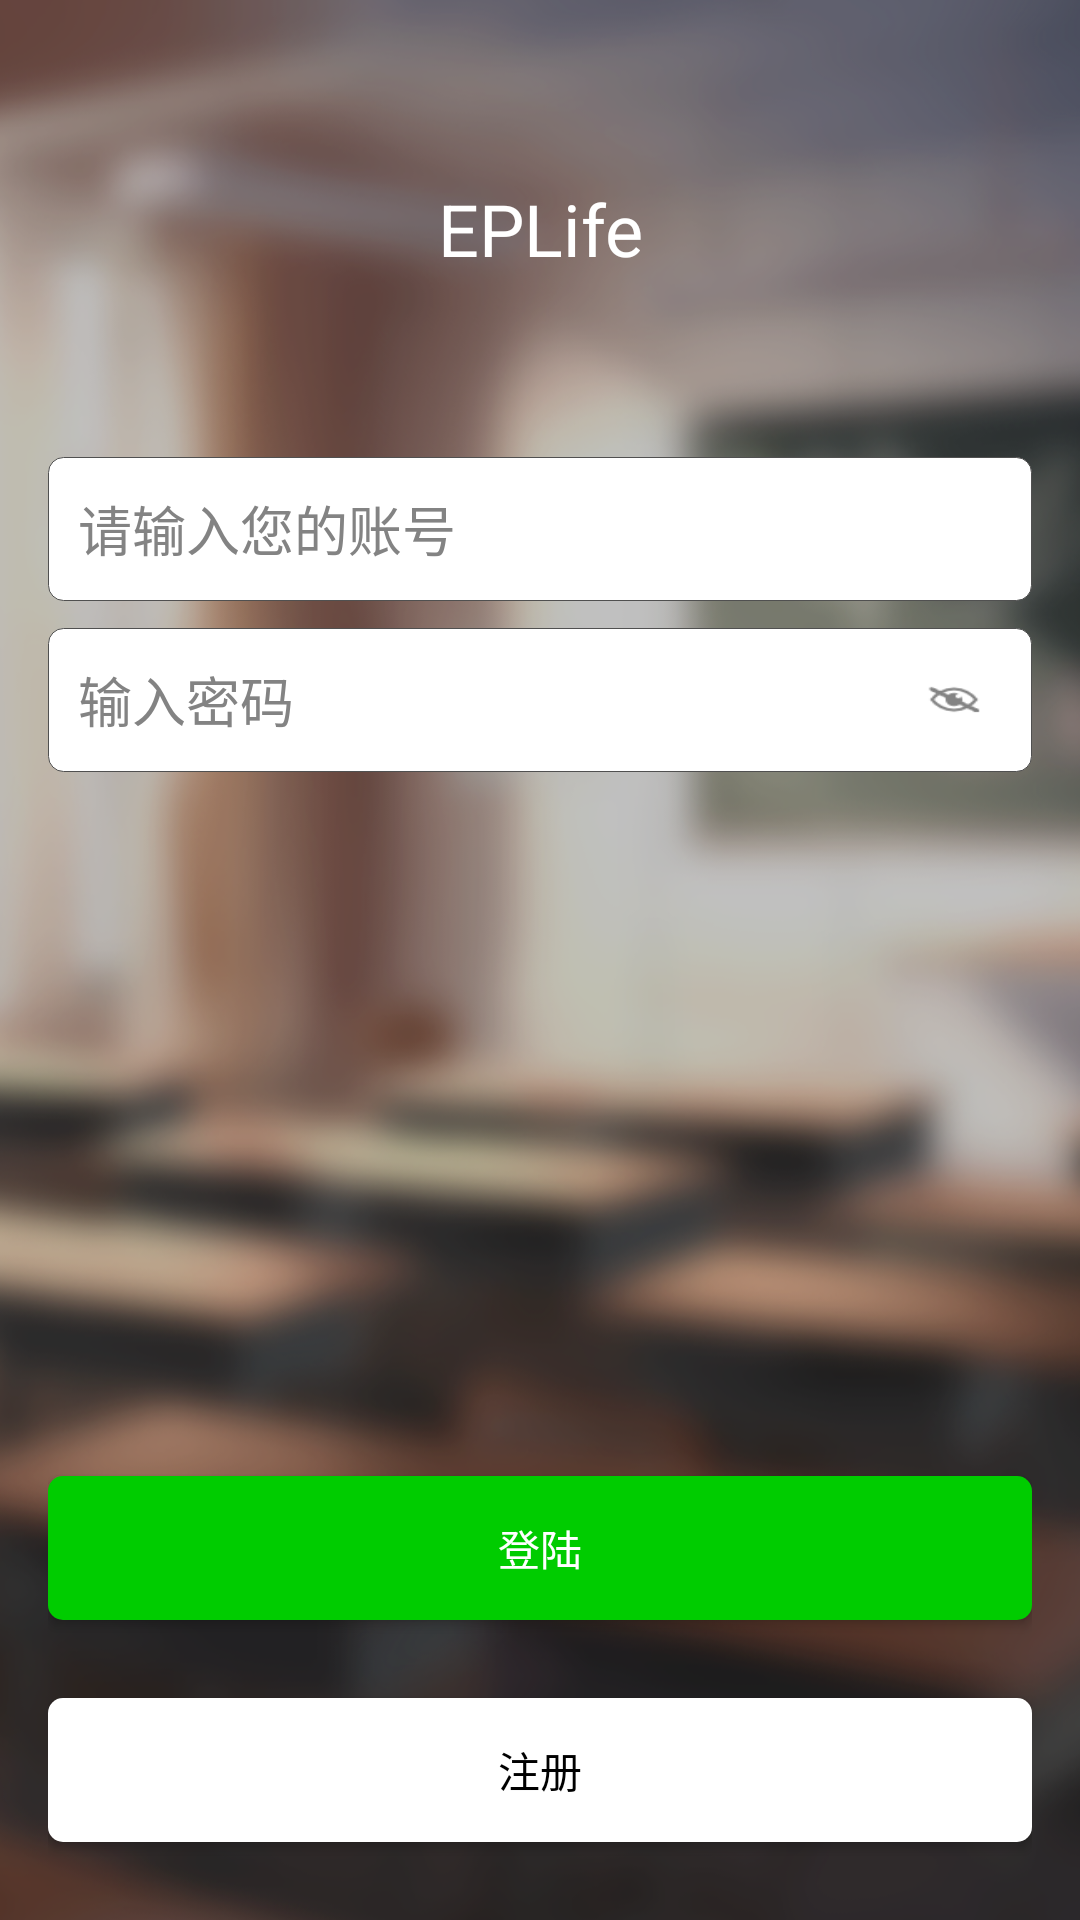

Screen size 1080×1920. Icon name, then its box in pixels as [x1, y1, x2, y2]:
nosee: [929, 687, 979, 712]
